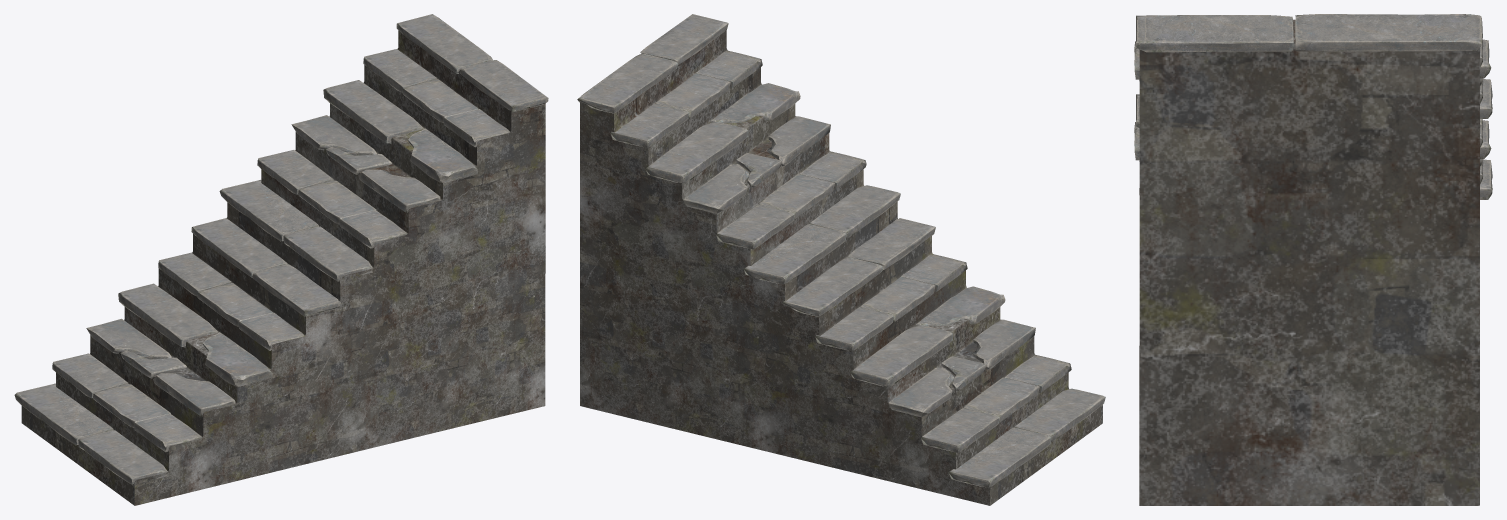
Rendered from SM_Stairs_01.fbx.
3 renders of one model, left to right at view 1: azimuth 30°, elevation 25°; view 2: azimuth 150°, elevation 25°; view 3: azimuth 270°, elevation 25°, orthographic. The views are drawn at different scales.
Visible parts, largest first — view 1: SM_Stairs_01_LOD0; view 2: SM_Stairs_01_LOD0; view 3: SM_Stairs_01_LOD0.
Boxes of the visible parts, left/top/right/bottom form: SM_Stairs_01_LOD0: left=14, top=14, right=548, bottom=505; SM_Stairs_01_LOD0: left=577, top=14, right=1105, bottom=505; SM_Stairs_01_LOD0: left=1134, top=14, right=1492, bottom=505.
Bounding box in the file's own units: 426 × 211 × 302.
